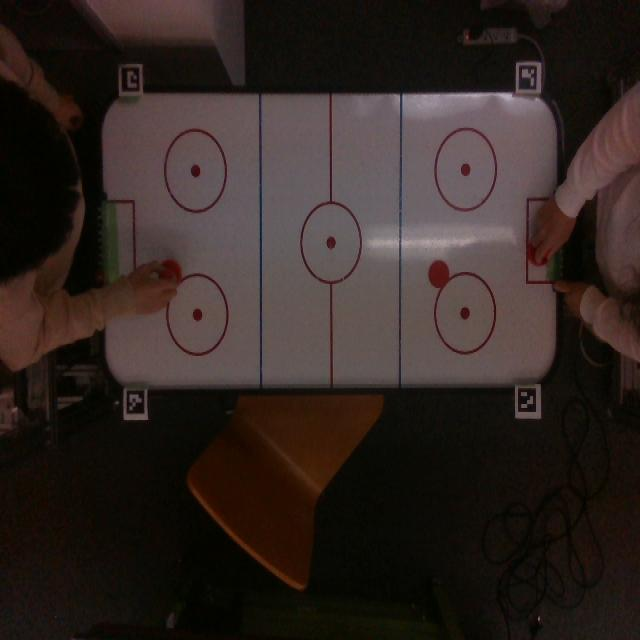puck: (428, 260, 449, 288)
